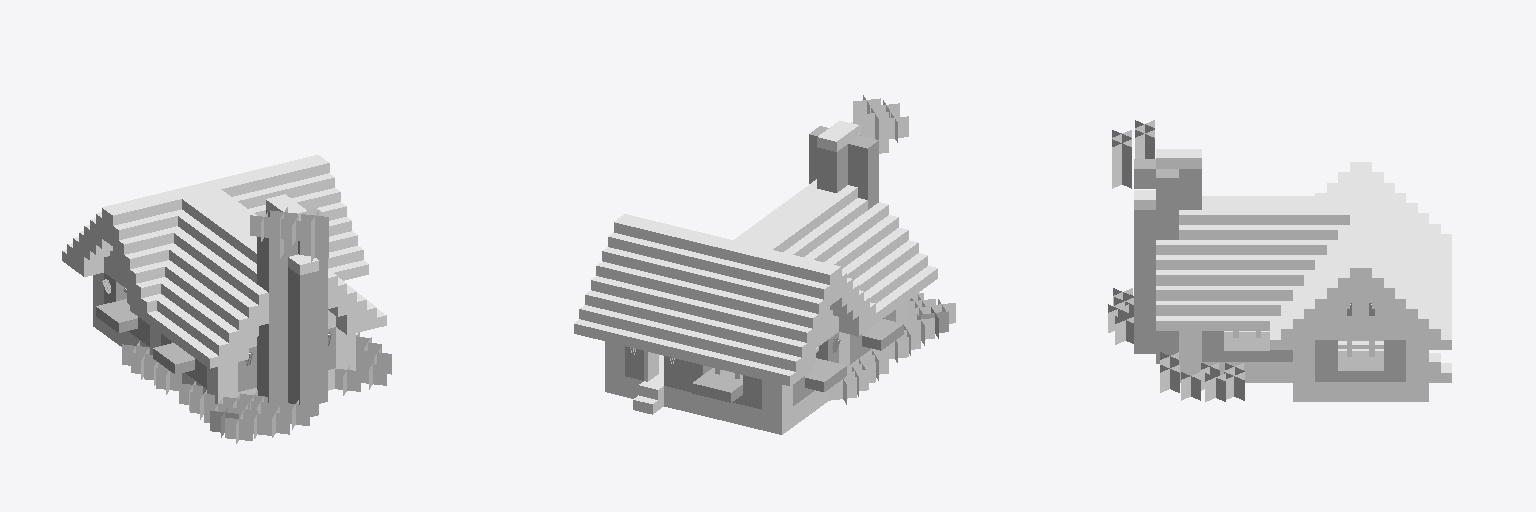
The model's file is WoodenHouse_1.obj.
3 renders of one model, left to right at view 1: azimuth 30°, elevation 25°; view 2: azimuth 150°, elevation 25°; view 3: azimuth 270°, elevation 25°, orthographic.
Parts seen in each view (by area): view 1: __-189_23_710_to_-179_32_724; view 2: __-189_23_710_to_-179_32_724; view 3: __-189_23_710_to_-179_32_724.
Boxes of the visible parts, x1=… form: __-189_23_710_to_-179_32_724: x1=62, y1=155, x2=391, y2=443; __-189_23_710_to_-179_32_724: x1=574, y1=95, x2=955, y2=434; __-189_23_710_to_-179_32_724: x1=1108, y1=120, x2=1451, y2=401.
Bounding box in the file's own units: 11 × 10 × 15.12.